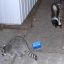skunk: (50, 3, 63, 29)
